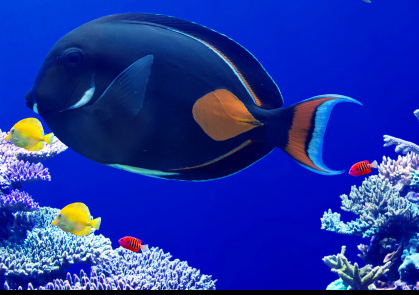fishRound: (23, 10, 363, 183), (3, 116, 54, 152), (51, 201, 100, 237), (348, 159, 379, 177), (116, 235, 146, 253)
